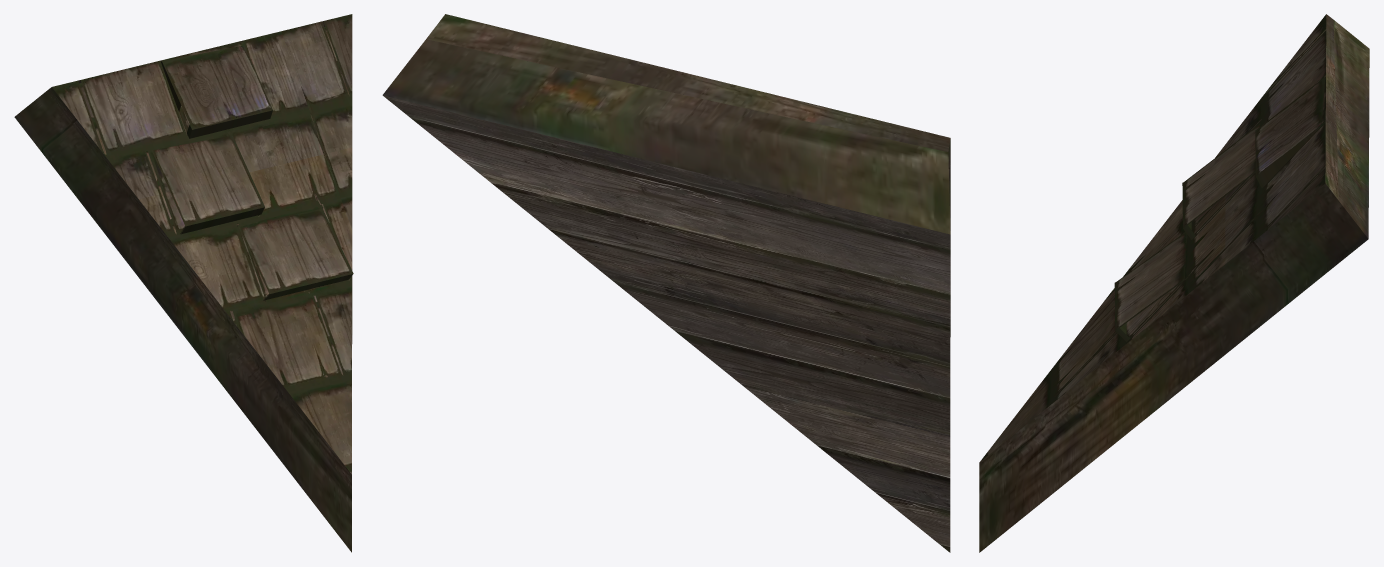
The picture shows the model from 3 angles, left to right: view 1: azimuth 30°, elevation 25°; view 2: azimuth 150°, elevation 25°; view 3: azimuth 270°, elevation 25°; orthographic projection. The views are drawn at different scales.
Visible parts, largest first — view 1: SM_BB_T1_Roof_Triangle_Med_LOD0; view 2: SM_BB_T1_Roof_Triangle_Med_LOD0; view 3: SM_BB_T1_Roof_Triangle_Med_LOD0.
Part boxes in pixels (<box>): SM_BB_T1_Roof_Triangle_Med_LOD0: <box>14,14,353,552</box>; SM_BB_T1_Roof_Triangle_Med_LOD0: <box>382,14,950,552</box>; SM_BB_T1_Roof_Triangle_Med_LOD0: <box>979,14,1369,552</box>.
Size of the model in its own units: 1.69 by 1.88 by 1.47.
3 materials, 3 textured.
